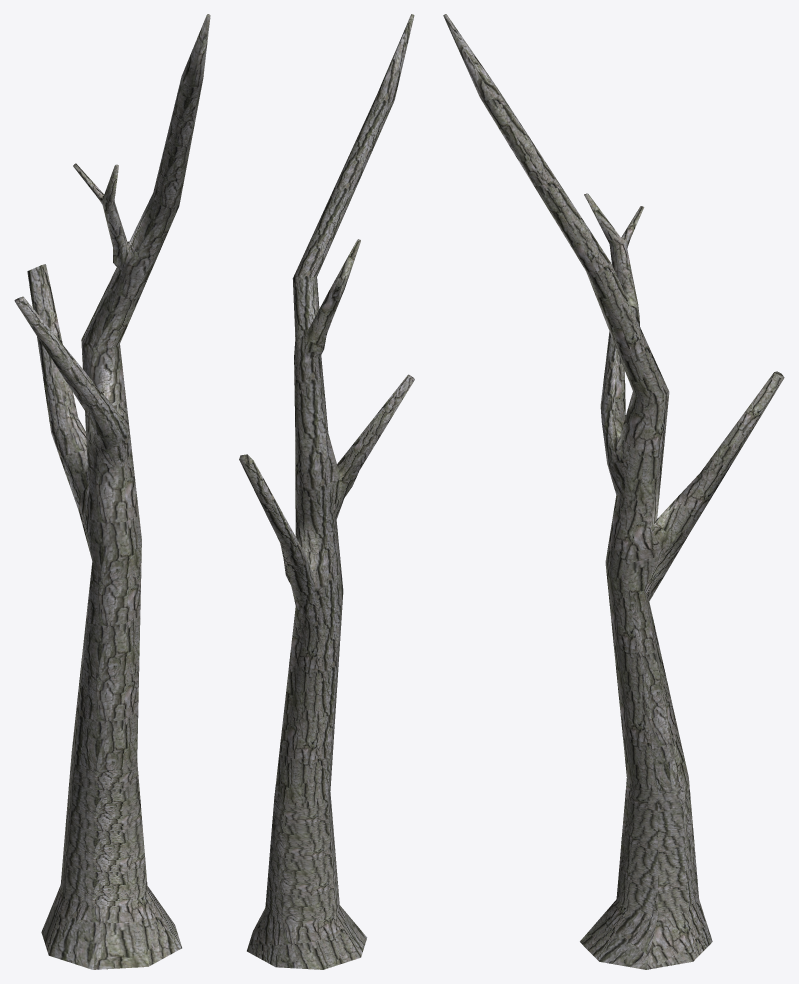
File: Tree.obj
The picture shows the model from 3 angles, left to right: view 1: azimuth 30°, elevation 25°; view 2: azimuth 150°, elevation 25°; view 3: azimuth 270°, elevation 25°; orthographic projection. The views are drawn at different scales.
Parts seen in each view (by area): view 1: Tree_Plane.007; view 2: Tree_Plane.007; view 3: Tree_Plane.007.
Part boxes in pixels (bbox=[...]): Tree_Plane.007: bbox=[14, 14, 210, 969]; Tree_Plane.007: bbox=[239, 14, 414, 969]; Tree_Plane.007: bbox=[443, 14, 784, 969].
Bounding box in the file's own units: 1.01 × 5.56 × 1.87.
1 material, 1 textured.
